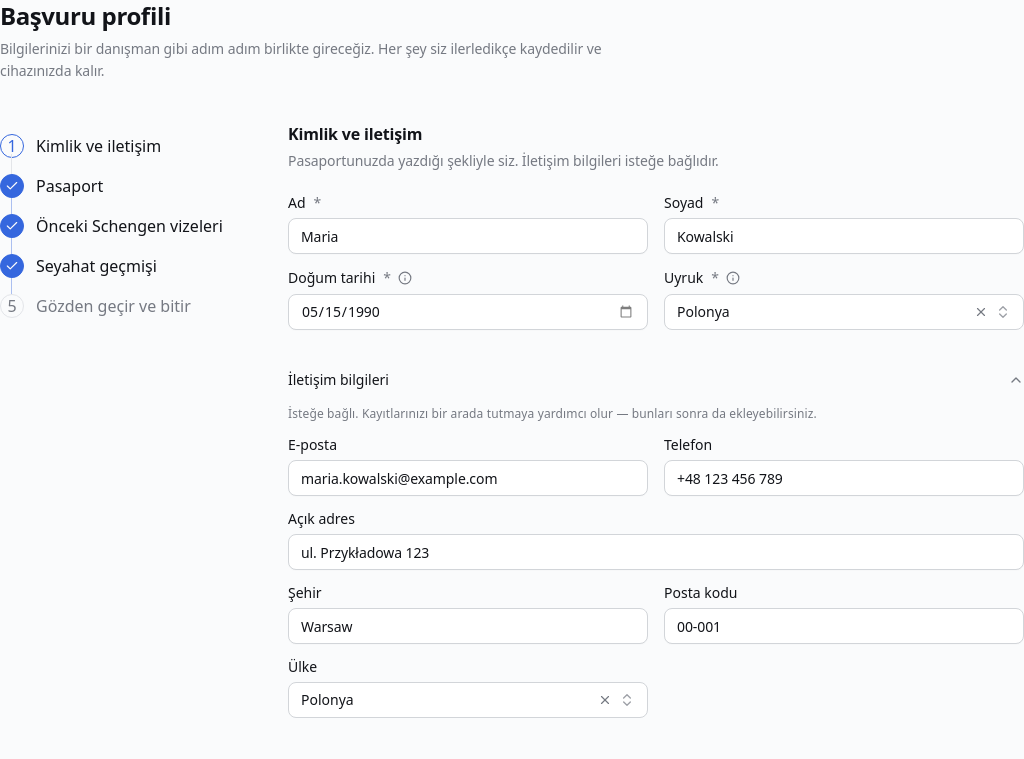
Applicant wizard — interaction › opens the "why do we ask this?" explanation
Click the button named "Bunu neden soruyoruz? — Doğum tarihi" at (405, 278), box [397,270,413,286]
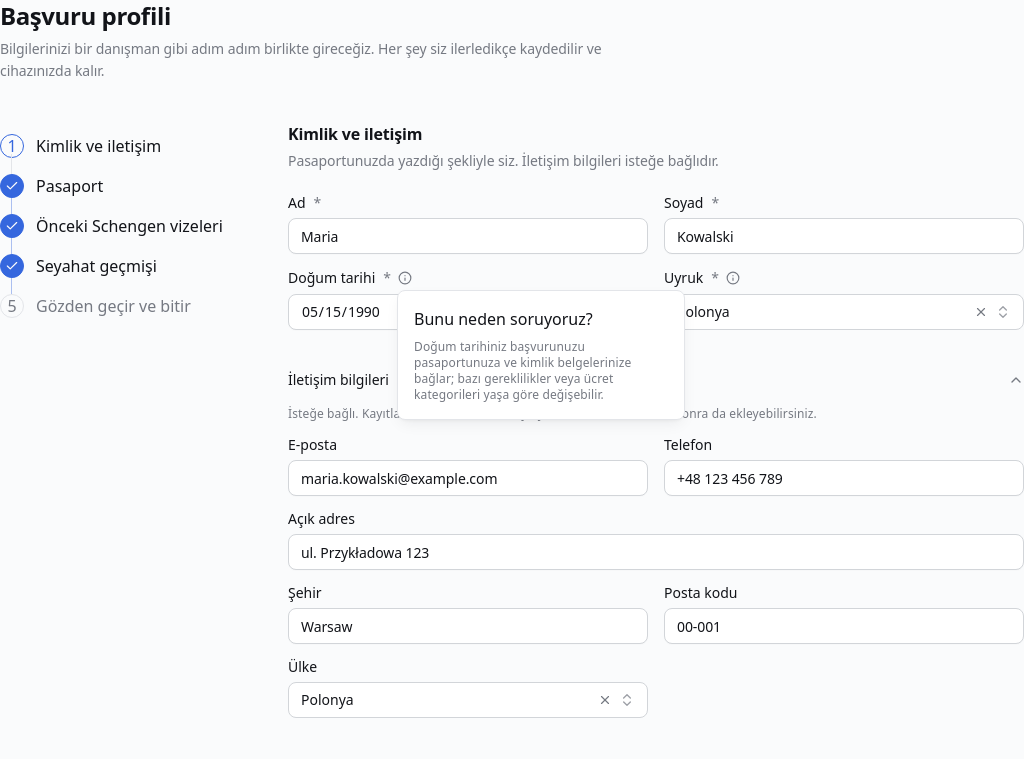
Expected: the text "Doğum tarihiniz başvurunuzu pasaportunuza ve kimlik belgelerinize bağlar; bazı gereklilikler veya ücret kategorileri yaş" is shown, [414,338,631,403]
